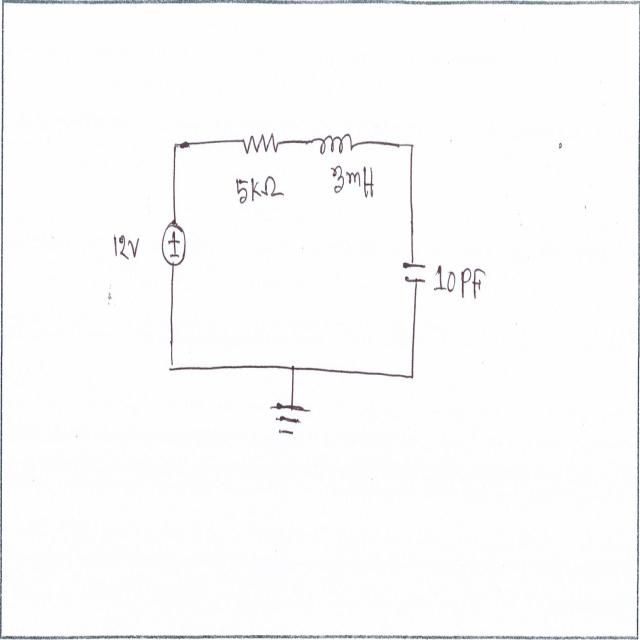capacitor: (402, 260, 430, 291)
ground: (269, 398, 311, 448)
inductor: (318, 128, 354, 162)
resistor: (240, 124, 282, 160)
voltage_source: (159, 218, 190, 274)
